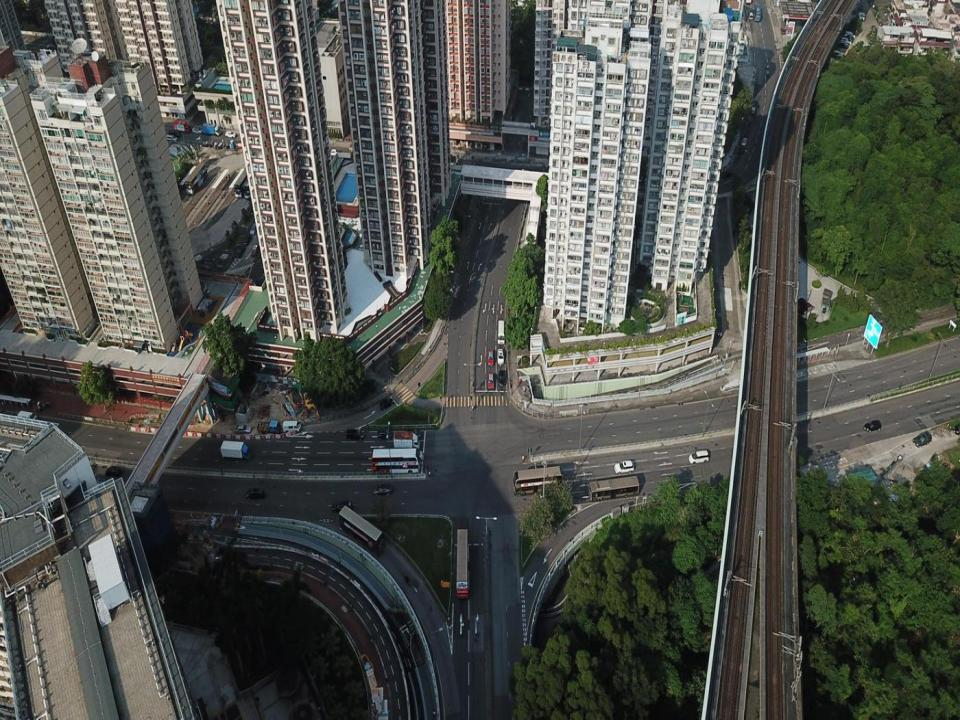bus: (338, 505, 385, 556), (513, 464, 564, 496), (588, 473, 640, 502), (372, 448, 421, 476), (455, 527, 469, 599), (184, 162, 208, 194), (243, 166, 260, 200), (234, 167, 248, 198), (496, 319, 505, 344), (754, 3, 761, 23)
car: (911, 430, 932, 448), (372, 481, 393, 498), (688, 450, 710, 464), (614, 460, 635, 474), (246, 485, 264, 501), (331, 500, 353, 513), (345, 428, 365, 441), (863, 419, 881, 433), (233, 423, 252, 435), (105, 465, 122, 478), (377, 428, 393, 440), (379, 398, 394, 410), (234, 244, 246, 259), (249, 243, 260, 258), (496, 347, 504, 366), (488, 371, 495, 390), (487, 348, 494, 367), (242, 232, 252, 245), (168, 129, 182, 138), (498, 370, 505, 387), (165, 133, 178, 142), (250, 221, 258, 235), (719, 169, 730, 179), (191, 126, 203, 135), (225, 130, 237, 139), (748, 10, 755, 21), (738, 144, 745, 154), (750, 105, 756, 116), (741, 137, 748, 146)
truck: (220, 440, 252, 460), (393, 431, 420, 450), (256, 419, 281, 435), (202, 122, 222, 136), (172, 119, 191, 133)
van: (16, 409, 39, 433), (282, 419, 301, 433)
